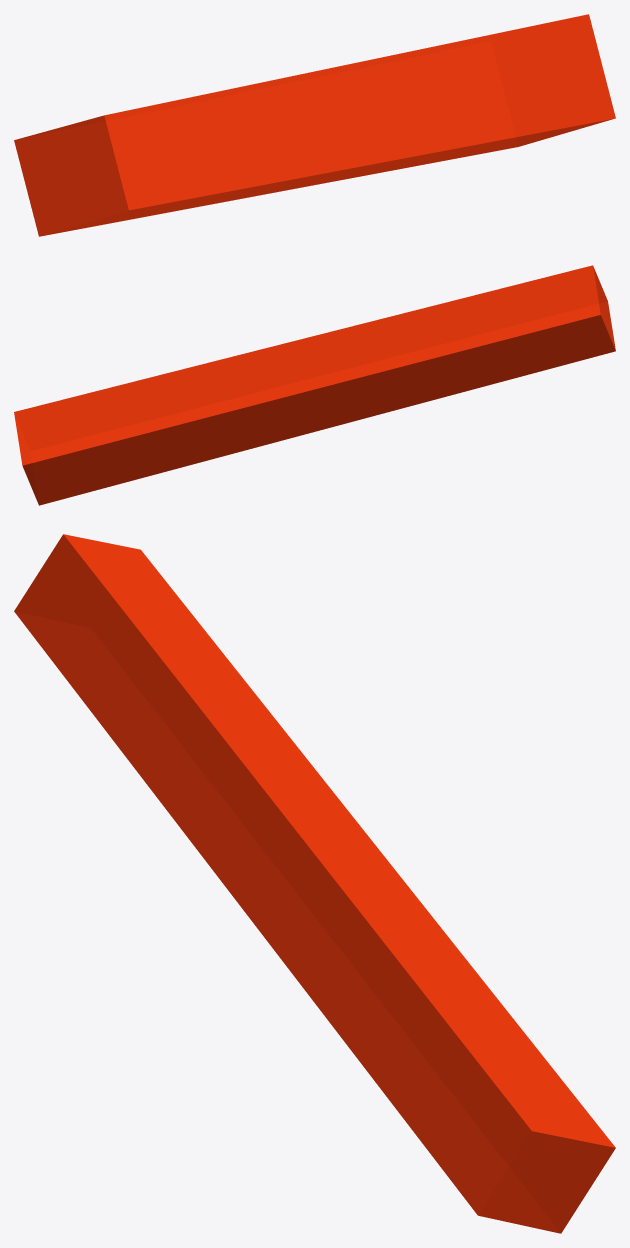
The model's file is Event_421115418_EBrechit_53.fbx.
3 views of the same model, one above another, from view 1: azimuth 30°, elevation 25°; view 2: azimuth 150°, elevation 25°; view 3: azimuth 270°, elevation 25° (orthographic). The views are drawn at different scales.
Visible parts, largest first — view 1: Model; view 2: Model; view 3: Model.
Part boxes in pixels (<box>): Model: <box>14,14,615,236</box>; Model: <box>14,265,615,505</box>; Model: <box>14,534,615,1233</box>.
Size of the model in its own units: 0.5008 by 0.2332 by 0.3386.
